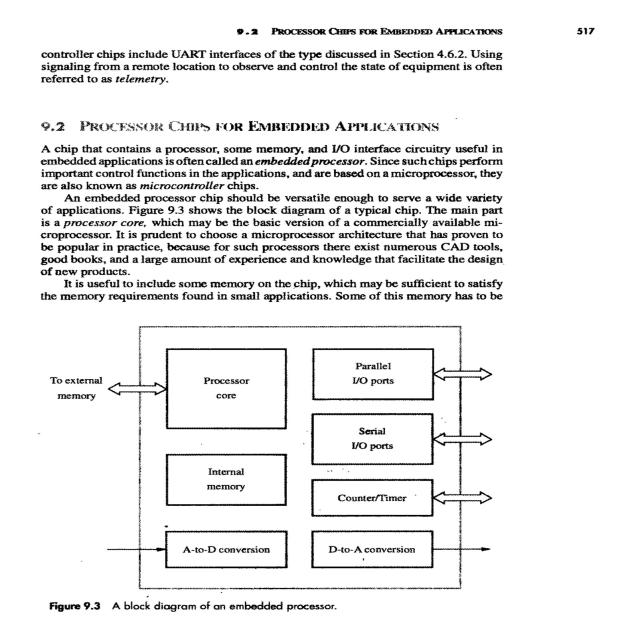diagram: (44, 312, 499, 627)
